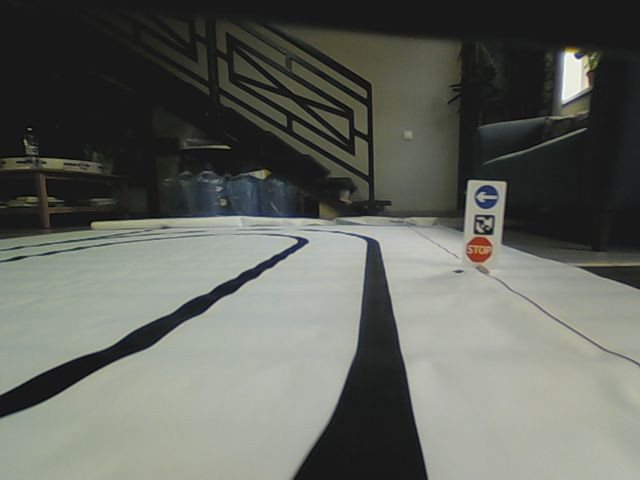Stop: (466, 235, 493, 263)
